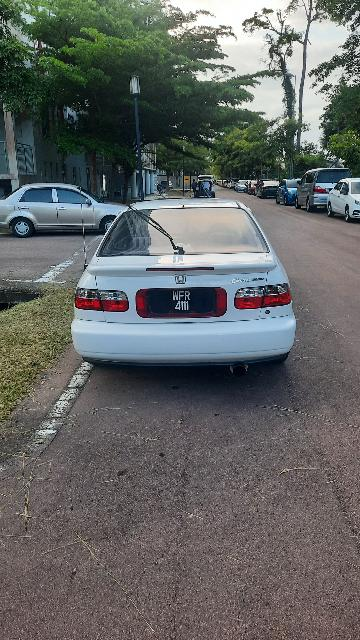License_Plate: (143, 287, 217, 320)
car: (70, 197, 298, 380)
